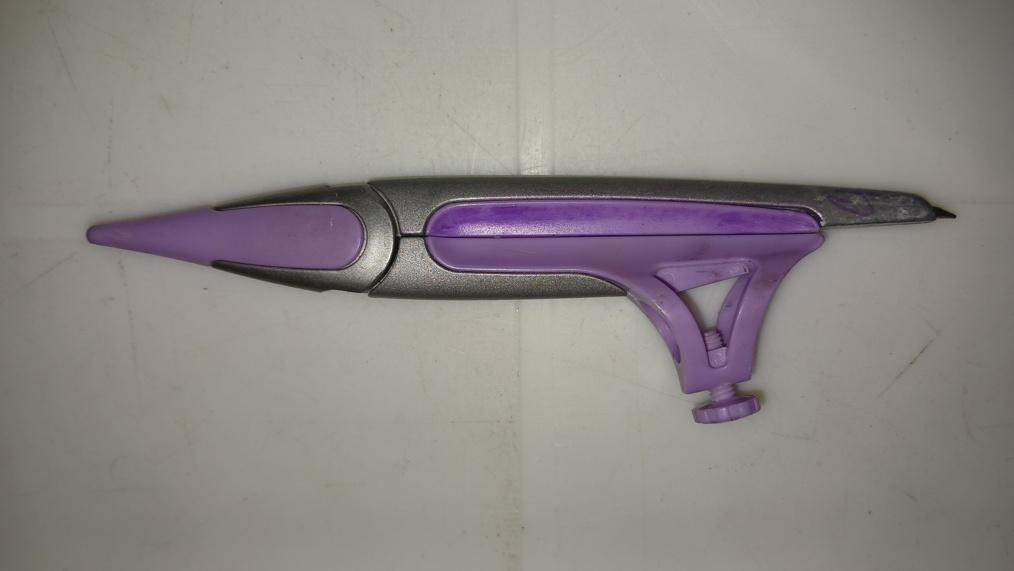Compass: (84, 177, 960, 428)
